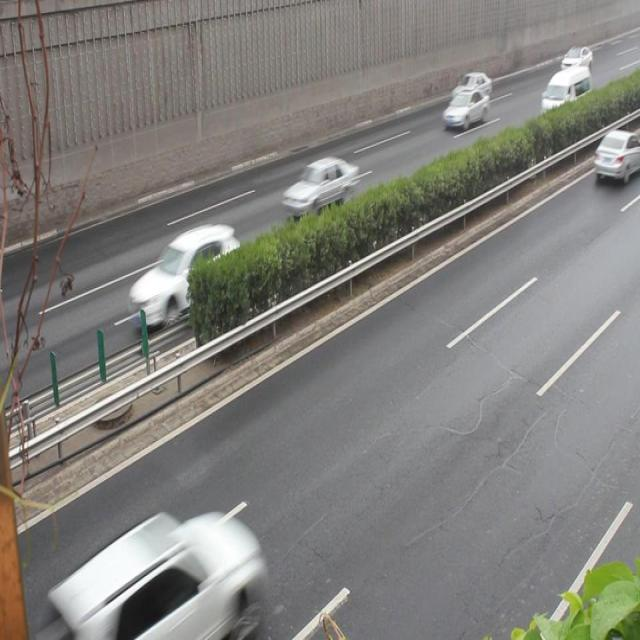car: (56, 513, 259, 639), (128, 224, 243, 325), (282, 155, 358, 215), (592, 125, 640, 180), (440, 86, 486, 130), (450, 68, 489, 100)
